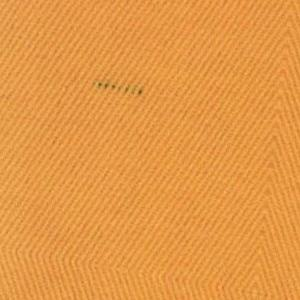stain: (90, 75, 148, 101)
